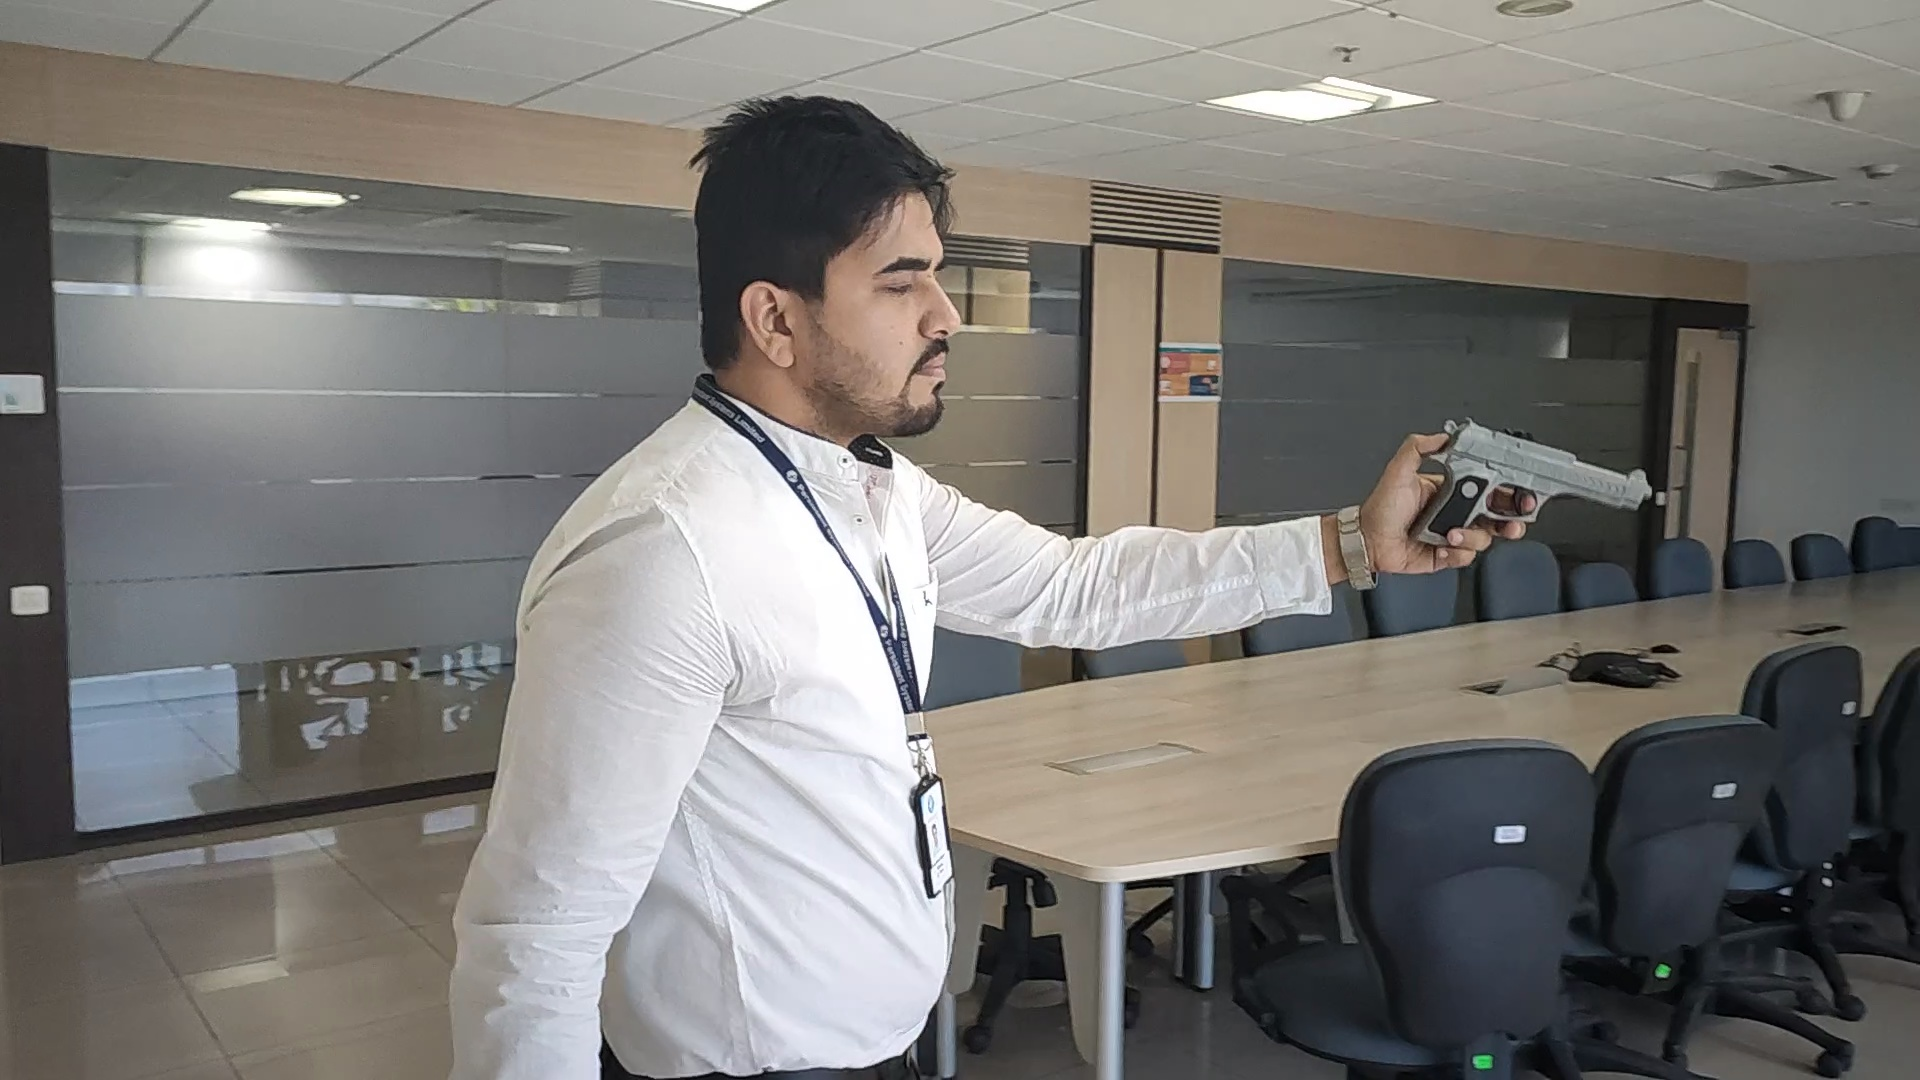gun: (1414, 418, 1648, 549)
